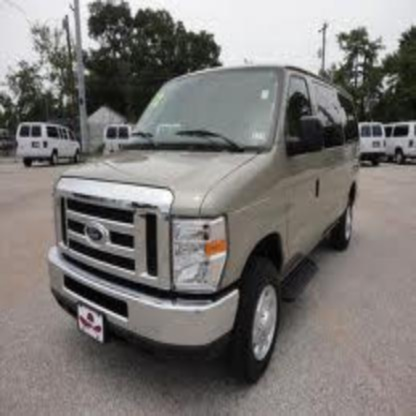Vehicle: (48, 66, 365, 384)
